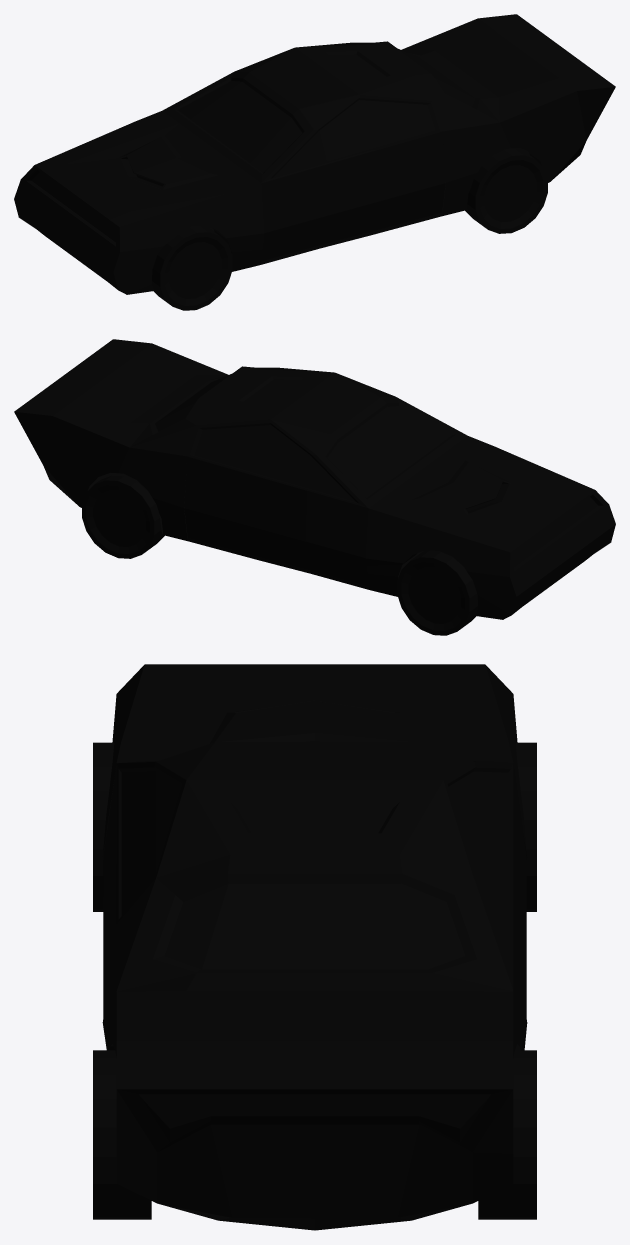
Rendered from NoNameCarForSell.fbx.
The picture shows the model from 3 angles, top to bottom: view 1: azimuth 30°, elevation 25°; view 2: azimuth 150°, elevation 25°; view 3: azimuth 270°, elevation 25°; orthographic projection. The views are drawn at different scales.
Parts seen in each view (by area): view 1: Cube, Cube.002, Cylinder.001, Cylinder; view 2: Cube, Cube.002, Cylinder, Cylinder.001; view 3: Cube, Cube.002, Cylinder.001, Cylinder.
Boxes of the visible parts, left/top/right/bottom form: Cube: left=14, top=14, right=615, bottom=294; Cube.002: left=260, top=94, right=445, bottom=264; Cylinder.001: left=465, top=148, right=547, bottom=233; Cylinder: left=152, top=225, right=232, bottom=310; Cube: left=14, top=339, right=615, bottom=619; Cube.002: left=184, top=419, right=369, bottom=589; Cylinder: left=397, top=550, right=477, bottom=635; Cylinder.001: left=82, top=475, right=164, bottom=558; Cube: left=102, top=664, right=527, bottom=1230; Cube.002: left=103, top=762, right=526, bottom=1016; Cylinder.001: left=93, top=1050, right=536, bottom=1219; Cylinder: left=93, top=742, right=536, bottom=911.
Size of the model in its own units: 299 by 86.81 by 114.
Materials: 1 (1 with a texture image).
